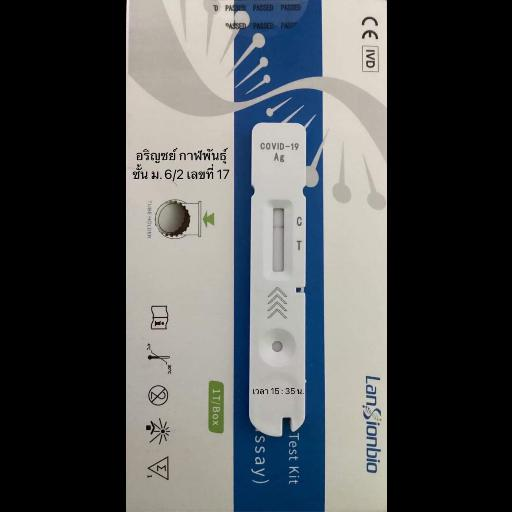Neg: (250, 122, 304, 436)
